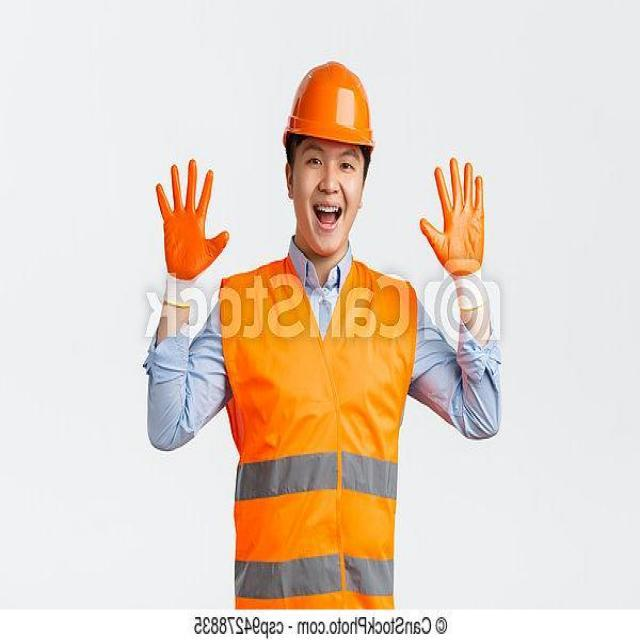reflective_jacket: (216, 259, 419, 608)
safety_helmet: (280, 56, 378, 153)
